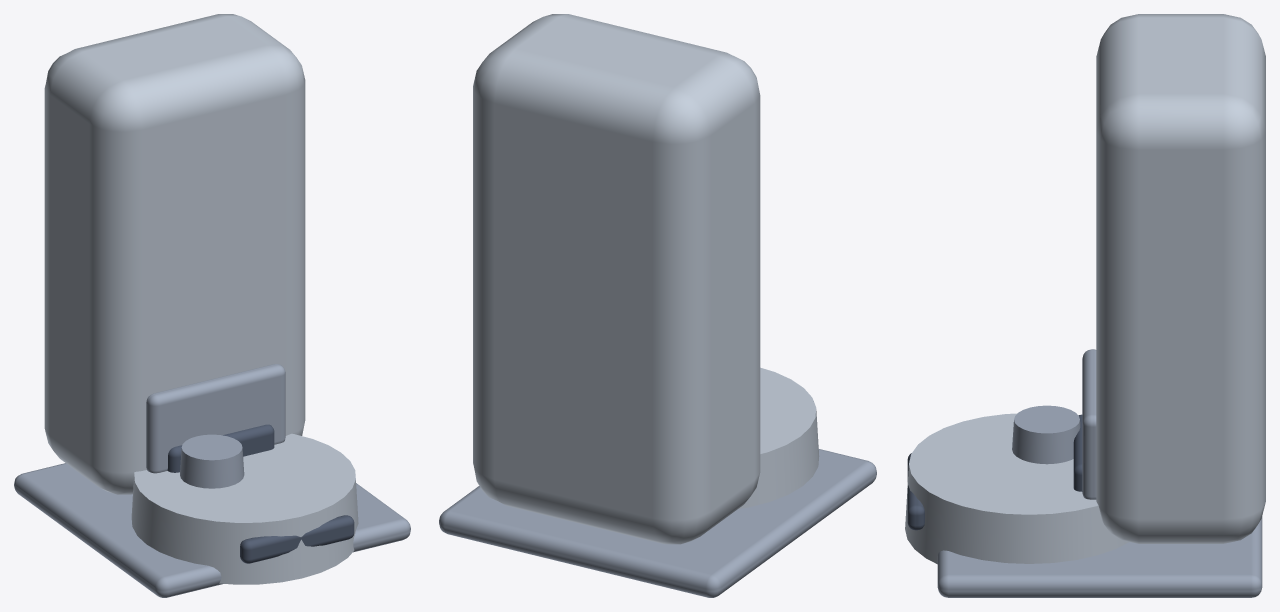
File: robotvacuum-lite.glb
3 views of the same model, side by side, from view 1: azimuth 30°, elevation 25°; view 2: azimuth 150°, elevation 25°; view 3: azimuth 270°, elevation 25° (orthographic). The views are drawn at different scales.
Visible parts, largest first — view 1: robotvacuum; view 2: robotvacuum; view 3: robotvacuum.
Part boxes in pixels (x1,y1,x2,y2): robotvacuum: [14, 14, 410, 597]; robotvacuum: [439, 14, 876, 597]; robotvacuum: [905, 14, 1265, 597].
Bounding box in the file's own units: 0.451 × 0.7475 × 0.511.
